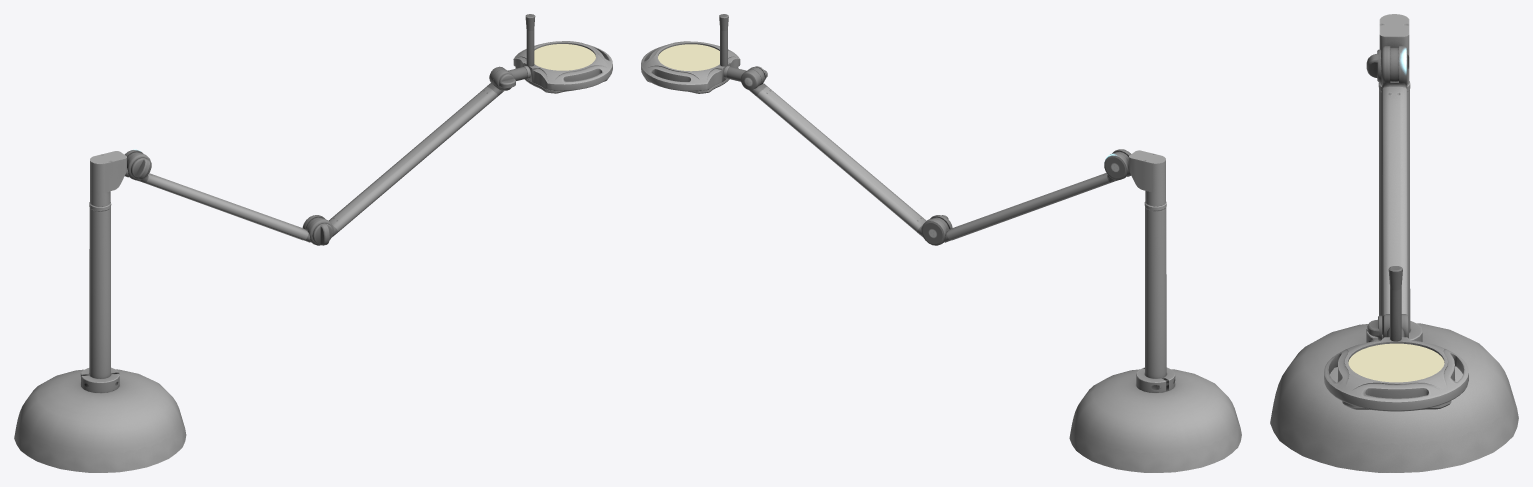
File: lamp3.glb
3 renders of one model, left to right at view 1: azimuth 30°, elevation 25°; view 2: azimuth 150°, elevation 25°; view 3: azimuth 270°, elevation 25°, orthographic. The views are drawn at different scales.
Visible parts, largest first — view 1: lamp_LP.001, glass; view 2: lamp_LP.001, glass; view 3: lamp_LP.001, glass.
Part boxes in pixels (x1=…): lamp_LP.001: x1=14, y1=14, x2=612, y2=472; glass: x1=534, y1=44, x2=595, y2=70; lamp_LP.001: x1=641, y1=14, x2=1241, y2=472; glass: x1=658, y1=44, x2=719, y2=71; lamp_LP.001: x1=1270, y1=14, x2=1518, y2=472; glass: x1=1348, y1=343, x2=1444, y2=382.
Bounding box in the file's own units: 1.36 × 0.7062 × 0.349.
2 materials, 1 textured.
